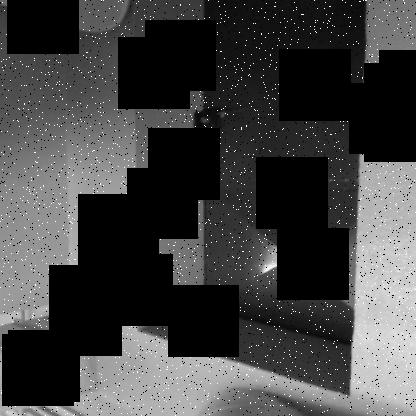Porte: (197, 1, 371, 352)
